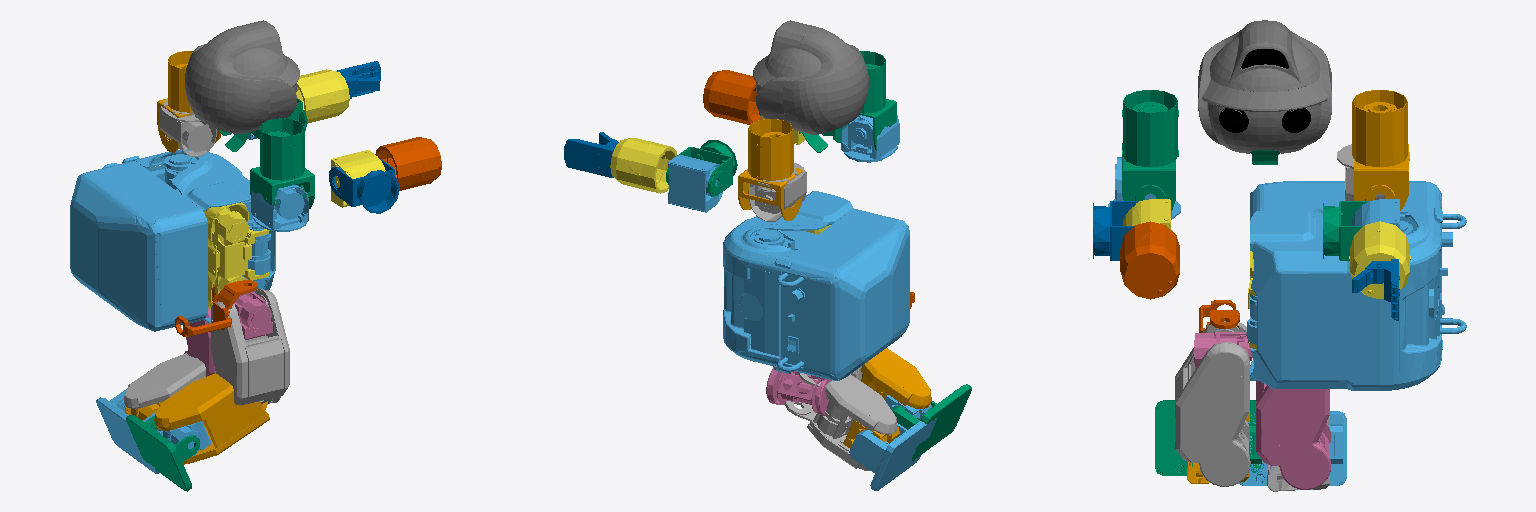
URDF robot description (hoap3):
<?xml version="1.0" ?>
<robot name="hoap3">
  <link name="base_link"/>
  <link name="CHEST">
    <visual>
      <origin rpy="0.0 -0.0 0.0" xyz="0.0 0.0 0.0"/>
      <geometry>
        <mesh filename="package://hoap3_description/meshes/BODY_LINK01.dae"/>
      </geometry>
    </visual>
    <intertial>
      <mass value="3.26"/>
      <origin xyz="-0.049489 0.000892912 -0.0408259"/>
    </intertial>
  </link>
  <link name="H_PAN">
    <visual>
      <origin rpy="0.0 -0.0 1.57079632679" xyz="0.0 0.0 0.08"/>
      <geometry>
        <mesh filename="package://hoap3_description/meshes/HEAD_LINK01.dae"/>
      </geometry>
    </visual>
    <intertial>
      <mass value="7.10e-02"/>
      <origin xyz="0.00539731 -0.00158067 0.0564034"/>
    </intertial>
  </link>
  <link name="H_TILT">
    <intertial>
      <mass value="0"/>
      <origin xyz="0.0 0.0 0.0"/>
    </intertial>
  </link>
  <link name="H_ROLL">
    <visual>
      <origin rpy="0.0 -0.0 0.0" xyz="0.0 0.0 0.0"/>
      <geometry>
        <mesh filename="package://hoap3_description/meshes/HEAD_LINK02.dae"/>
      </geometry>
    </visual>
    <intertial>
      <mass value="4.12e-01"/>
      <origin xyz="-0.00103952 -0.00517985 1.82267e-05"/>
    </intertial>
  </link>
  <link name="HEAD"/>
  <link name="EYE"/>
  <link name="REYE"/>
  <link name="LEYE"/>
  <link name="R_SFE">
    <visual>
      <origin rpy="0.0 -0.0 0.0" xyz="0.0 0.0 0.0"/>
      <geometry>
        <mesh filename="package://hoap3_description/meshes/RARM_LINK01.dae"/>
      </geometry>
    </visual>
    <intertial>
      <mass value="2.10e-01"/>
      <origin xyz="8.28367e-05 0.00666808 0.00634824"/>
    </intertial>
  </link>
  <link name="R_SAA">
    <visual>
      <origin rpy="0.0 -0.0 0.0" xyz="0.0 0.0 0.0"/>
      <geometry>
        <mesh filename="package://hoap3_description/meshes/RARM_LINK02.dae"/>
      </geometry>
    </visual>
    <intertial>
      <mass value="2.34e-01"/>
      <origin xyz="-0.00065756 -0.0463848 -0.00377395"/>
    </intertial>
  </link>
  <link name="R_SHR">
    <visual>
      <origin rpy="0.0 -0.0 0.0" xyz="0.0 0.0 0.0"/>
      <geometry>
        <mesh filename="package://hoap3_description/meshes/RARM_LINK03.dae"/>
      </geometry>
    </visual>
    <intertial>
      <mass value="1.965e-01"/>
      <origin xyz="-0.00272189 -0.00160245 -0.00220452"/>
    </intertial>
  </link>
  <link name="R_EB">
    <visual>
      <origin rpy="0.0 -0.0 0.0" xyz="0.0 0.0 0.0"/>
      <geometry>
        <mesh filename="package://hoap3_description/meshes/RARM_LINK04.dae"/>
      </geometry>
    </visual>
    <intertial>
      <mass value="2.16e-01"/>
      <origin xyz="0.00100237 0.0664225 -0.000615512"/>
    </intertial>
  </link>
  <link name="R_WR">
    <visual>
      <origin rpy="-1.57079632679 -0.0 0.0" xyz="0.0 0.0 0.0"/>
      <geometry>
        <mesh filename="package://hoap3_description/meshes/RARM_LINK05.dae"/>
      </geometry>
    </visual>
  </link>
  <link name="R_HAND">
    <visual>
      <origin rpy="-1.57079632679 -0.0 0.0" xyz="0.0 0.0 0.0"/>
      <geometry>
        <mesh filename="package://hoap3_description/meshes/RHAND.dae"/>
      </geometry>
    </visual>
  </link>
  <link name="L_SFE">
    <visual>
      <origin rpy="0.0 -0.0 0.0" xyz="0.0 0.0 0.0"/>
      <geometry>
        <mesh filename="package://hoap3_description/meshes/LARM_LINK01.dae"/>
      </geometry>
    </visual>
    <intertial>
      <mass value="2.10e-01"/>
      <origin xyz="-3.64197e-05 0.00664174 -0.00634825"/>
    </intertial>
  </link>
  <link name="L_SAA">
    <visual>
      <origin rpy="0.0 -0.0 0.0" xyz="0.0 0.0 0.0"/>
      <geometry>
        <mesh filename="package://hoap3_description/meshes/LARM_LINK02.dae"/>
      </geometry>
    </visual>
    <intertial>
      <mass value="2.34e-01"/>
      <origin xyz="0.000747218 -0.0463619 -0.00377403"/>
    </intertial>
  </link>
  <link name="L_SHR">
    <visual>
      <origin rpy="0.0 -0.0 0.0" xyz="0.0 0.0 0.0"/>
      <geometry>
        <mesh filename="package://hoap3_description/meshes/LARM_LINK03.dae"/>
      </geometry>
    </visual>
    <intertial>
      <mass value="1.965e-01"/>
      <origin xyz="-0.00270991 0.00160227 -0.00209019"/>
    </intertial>
  </link>
  <link name="L_EB">
    <visual>
      <origin rpy="0.0 -0.0 0.0" xyz="0.0 0.0 0.0"/>
      <geometry>
        <mesh filename="package://hoap3_description/meshes/LARM_LINK04.dae"/>
      </geometry>
    </visual>
    <intertial>
      <mass value="2.16e-01"/>
      <origin xyz="0.000962091 0.0664766 0.000558629"/>
    </intertial>
  </link>
  <link name="L_WR">
    <visual>
      <origin rpy="1.57079632679 -0.0 0.0" xyz="0.0 0.0 0.0"/>
      <geometry>
        <mesh filename="package://hoap3_description/meshes/LARM_LINK05.dae"/>
      </geometry>
    </visual>
  </link>
   <link name="L_HAND">
    <visual>
      <origin rpy="1.57079632679 -0.0 0.0" xyz="0.0 0.0 0.0"/>
      <geometry>
        <mesh filename="package://hoap3_description/meshes/LHAND.dae"/>
      </geometry>
    </visual>
  </link>
  <link name="R_LR">
    <visual>
      <origin rpy="0.0 -0.0 0.0" xyz="0.0 0.0 0.0"/>
      <geometry>
        <mesh filename="package://hoap3_description/meshes/RLEG_LINK01.dae"/>
      </geometry>
    </visual>
    <intertial>
      <mass value="5.87e-02"/>
      <origin xyz="-0.003015 -0.0022399 0.0335846"/>
    </intertial>
  </link>
  <link name="R_LAA">
    <visual>
      <origin rpy="0.0 -0.0 0.0" xyz="0.0 0.0 0.0"/>
      <geometry>
        <mesh filename="package://hoap3_description/meshes/RLEG_LINK02.dae"/>
      </geometry>
    </visual>
    <intertial>
      <mass value="2.10e-01"/>
      <origin xyz="-0.00272697 0.00113482 0.0023778"/>
    </intertial>
  </link>
  <link name="R_LFE">
    <visual>
      <origin rpy="0.0 -0.0 0.0" xyz="0.0 0.0 0.0"/>
      <geometry>
        <mesh filename="package://hoap3_description/meshes/RLEG_LINK03.dae"/>
      </geometry>
    </visual>
    <intertial>
      <mass value="5.19e-01"/>
      <origin xyz="-0.0698208 0.00616508 -0.00326392"/>
    </intertial>
  </link>
  <link name="R_KN">
    <visual>
      <origin rpy="0.0 -0.0 0.0" xyz="0.0 0.0 0.0"/>
      <geometry>
        <mesh filename="package://hoap3_description/meshes/RLEG_LINK04.dae"/>
      </geometry>
    </visual>
    <intertial>
      <mass value="3.28e-01"/>
      <origin xyz="-0.0508521 0.00536785 -0.0046975"/>
    </intertial>
  </link>
  <link name="R_AFE">
    <visual>
      <origin rpy="0.0 -0.0 0.0" xyz="0.0 0.0 0.0"/>
      <geometry>
        <mesh filename="package://hoap3_description/meshes/RLEG_LINK05.dae"/>
      </geometry>
    </visual>
    <intertial>
      <mass value="1.95e-01"/>
      <origin xyz="0.00293669 0.00366853 -0.00133746"/>
    </intertial>
  </link>
  <link name="R_AAA">
    <visual>
      <origin rpy="0.0 -0.0 0.0" xyz="0.0 0.0 0.0"/>
      <geometry>
        <mesh filename="package://hoap3_description/meshes/RLEG_LINK06.dae"/>
      </geometry>
    </visual>
    <intertial>
      <mass value="1.54e-01"/>
      <origin xyz="-0.0292236 0.00324167 0.00827642"/>
    </intertial>
  </link>
  <link name="R_FOOT"/>
  <link name="L_LR">
    <visual>
      <origin rpy="0.0 -0.0 0.0" xyz="0.0 0.0 0.0"/>
      <geometry>
        <mesh filename="package://hoap3_description/meshes/LLEG_LINK01.dae"/>
      </geometry>
    </visual>
    <intertial>
      <mass value="5.87e-02"/>
      <origin xyz="0.00300449 -0.00225088 0.0335846"/>
    </intertial>
  </link>
  <link name="L_LAA">
    <visual>
      <origin rpy="0.0 -0.0 0.0" xyz="0.0 0.0 0.0"/>
      <geometry>
        <mesh filename="package://hoap3_description/meshes/LLEG_LINK02.dae"/>
      </geometry>
    </visual>
    <intertial>
      <mass value="2.10e-01"/>
      <origin xyz="-0.00271179 -0.00124723 0.00238665"/>
    </intertial>
  </link>
  <link name="L_LFE">
    <visual>
      <origin rpy="0.0 -0.0 0.0" xyz="0.0 0.0 0.0"/>
      <geometry>
        <mesh filename="package://hoap3_description/meshes/LLEG_LINK03.dae"/>
      </geometry>
    </visual>
    <intertial>
      <mass value="5.19e-01"/>
      <origin xyz="-0.0699224 0.00627642 0.00331502"/>
    </intertial>
  </link>
  <link name="L_KN">
    <visual>
      <origin rpy="0.0 -0.0 0.0" xyz="0.0 0.0 0.0"/>
      <geometry>
        <mesh filename="package://hoap3_description/meshes/LLEG_LINK04.dae"/>
      </geometry>
    </visual>
    <intertial>
      <mass value="3.28e-01"/>
      <origin xyz="-0.0508386 0.00537031 0.00487773"/>
    </intertial>
  </link>
  <link name="L_AFE">
    <visual>
      <origin rpy="0.0 -0.0 0.0" xyz="0.0 0.0 0.0"/>
      <geometry>
        <mesh filename="package://hoap3_description/meshes/LLEG_LINK05.dae"/>
      </geometry>
    </visual>
    <intertial>
      <mass value="1.95e-01"/>
      <origin xyz="0.00292057 0.00369219 0.00119731"/>
    </intertial>
  </link>
  <link name="L_AAA">
    <visual>
      <origin rpy="0.0 -0.0 0.0" xyz="0.0 0.0 0.0"/>
      <geometry>
        <mesh filename="package://hoap3_description/meshes/LLEG_LINK06.dae"/>
      </geometry>
    </visual>
    <intertial>
      <mass value="1.54e-01"/>
      <origin xyz="-0.0292236 -0.0033462 0.00827642"/>
    </intertial>
  </link>
  <link name="L_FOOT"/>
  <link name="WAIST">
    <visual>
      <origin rpy="0.0 -0.0 0.0" xyz="0.0 0.0 0.0"/>
      <geometry>
        <mesh filename="package://hoap3_description/meshes/BODY_LINK02.dae"/>
      </geometry>
    </visual>
    <intertial>
      <mass value="4.17e-01"/>
      <origin xyz="-0.0322707 0.0111375 -0.000329172"/>
    </intertial>
  </link>

  <joint name="base_link_WAIST_joint" type="fixed">
    <parent link="base_link"/>
    <child link="WAIST"/>
    <origin rpy="1.57079632679 -0.0 0.0" xyz="0.0 0.0 0.0"/>
  </joint>
  <joint name="WAIST_CHEST_joint" type="revolute">
    <parent link="WAIST"/>
    <child link="CHEST"/>
    <axis xyz="0 1 0"/>
    <limit effort="100" lower="0.0" upper="0.610865238198" velocity="100"/>
    <origin rpy="-1.57079632679 -0.0 0.0" xyz="-0.0 0.0 0.0"/>
  </joint>
  <joint name="CHEST_H_PAN_joint" type="revolute">
    <parent link="CHEST"/>
    <child link="H_PAN"/>
    <axis xyz="0 0 1"/>
    <limit effort="100" lower="-1.0471975512" upper="1.0471975512" velocity="100"/>
    <origin rpy="0.0 -0.0 0.0" xyz="-0.035 0.0 0.125"/>
  </joint>
  <joint name="H_PAN_H_TILT_joint" type="revolute">
    <parent link="H_PAN"/>
    <child link="H_TILT"/>
    <axis xyz="0 0 -1"/>
    <limit effort="100" lower="-0.785398163397" upper="0.261799387799" velocity="100"/>
    <origin rpy="-1.57079632679 -0.0 0.0" xyz="0.015 0.0 0.103"/>
  </joint>
  <joint name="H_TILT_H_ROLL_joint" type="revolute">
    <parent link="H_TILT"/>
    <child link="H_ROLL"/>
    <axis xyz="-1 0 0"/>
    <limit effort="100" lower="-0.261799387799" upper="0.261799387799" velocity="100"/>
    <origin rpy="0.0 -0.0 0.0" xyz="0.0 0.0 0.0"/>
  </joint>
  <joint name="H_ROLL_HEAD_joint" type="fixed">
    <parent link="H_ROLL"/>
    <child link="HEAD"/>
    <origin rpy="0.0 -0.0 0.0" xyz="0.0 -0.07 0.0"/>
  </joint>
  <joint name="H_ROLL_EYE_joint" type="fixed">
    <parent link="H_ROLL"/>
    <child link="EYE"/>
    <origin rpy="0.0 -0.0 0.0" xyz="0.06 0.004 0.0"/>
  </joint>
  <joint name="H_ROLL_REYE_joint" type="fixed">
    <parent link="H_ROLL"/>
    <child link="REYE"/>
    <origin rpy="0.0 -0.0 0.0" xyz="0.05 0.004 -0.03"/>
  </joint>
  <joint name="H_ROLL_LEYE_joint" type="fixed">
    <parent link="H_ROLL"/>
    <child link="LEYE"/>
    <origin rpy="0.0 -0.0 0.0" xyz="0.05 0.004 0.03"/>
  </joint>
  <joint name="CHEST_R_SFE_joint" type="revolute">
    <parent link="CHEST"/>
    <child link="R_SFE"/>
    <axis xyz="0 0 1"/>
    <limit effort="100" lower="-1.57079632679" upper="2.44346095279" velocity="100"/>
    <origin rpy="-1.57079632679 -0.0 0.0" xyz="-0.035 -0.111 0.125"/>
  </joint>
  <joint name="R_SFE_R_SAA_joint" type="revolute">
    <parent link="R_SFE"/>
    <child link="R_SAA"/>
    <axis xyz="0 0 1"/>
    <limit effort="100" lower="-1.57079632679" upper="0.0" velocity="100"/>
    <origin rpy="1.57079632679 -1.57079632679 0.0" xyz="0.0 0.0 0.0"/>
  </joint>
  <joint name="R_SAA_R_SHR_joint" type="revolute">
    <parent link="R_SAA"/>
    <child link="R_SHR"/>
    <axis xyz="0 0 1"/>
    <limit effort="100" lower="-1.57079632679" upper="1.57079632679" velocity="100"/>
    <origin rpy="1.57079632679 -1.57079632679 0.0" xyz="0.0 -0.111 0.0"/>
  </joint>
  <joint name="R_SHR_R_EB_joint" type="revolute">
    <parent link="R_SHR"/>
    <child link="R_EB"/>
    <axis xyz="0 0 1"/>
    <limit effort="100" lower="-2.00712863979" upper="0.0" velocity="100"/>
    <origin rpy="1.57079632679 -0.0 0.0" xyz="0.0 0.0 0.0"/>
  </joint>
  <joint name="R_EB_R_WR_joint" type="revolute">
    <parent link="R_EB"/>
    <child link="R_WR"/>
    <axis xyz="0 0 1"/>
    <limit effort="100" lower="-1.0471975512" upper="1.0471975512" velocity="100"/>
    <origin rpy="1.57079632679 -0.0 0.0" xyz="0.0 0.0478 0.0"/>
  </joint>
  <joint name="R_WR_R_HAND_joint" type="fixed">
    <parent link="R_WR"/>
    <child link="R_HAND"/>
    <origin rpy="0.0 0.0 0.0" xyz="0.0 0.0 -0.055"/>
  </joint>
  <joint name="CHEST_L_SFE_joint" type="revolute">
    <parent link="CHEST"/>
    <child link="L_SFE"/>
    <axis xyz="0 0 1"/>
    <limit effort="100" lower="-1.57079632679" upper="2.44346095279" velocity="100"/>
    <origin rpy="-1.57079632679 -0.0 0.0" xyz="-0.035 0.111 0.125"/>
  </joint>
  <joint name="L_SFE_L_SAA_joint" type="revolute">
    <parent link="L_SFE"/>
    <child link="L_SAA"/>
    <axis xyz="0 0 1"/>
    <limit effort="100" lower="0.0" upper="1.57079632679" velocity="100"/>
    <origin rpy="1.57079632679 -1.57079632679 0.0" xyz="0.0 0.0 0.0"/>
  </joint>
  <joint name="L_SAA_L_SHR_joint" type="revolute">
    <parent link="L_SAA"/>
    <child link="L_SHR"/>
    <axis xyz="0 0 1"/>
    <limit effort="100" lower="-1.58824961931" upper="1.58824961931" velocity="100"/>
    <origin rpy="1.57079632679 -1.57079632679 0.0" xyz="0.0 -0.111 0.0"/>
  </joint>
  <joint name="L_SHR_L_EB_joint" type="revolute">
    <parent link="L_SHR"/>
    <child link="L_EB"/>
    <axis xyz="0 0 1"/>
    <limit effort="100" lower="-2.00712863979" upper="0.0" velocity="100"/>
    <origin rpy="1.57079632679 -0.0 0.0" xyz="0.0 0.0 0.0"/>
  </joint>
  <joint name="L_EB_L_WR_joint" type="revolute">
    <parent link="L_EB"/>
    <child link="L_WR"/>
    <axis xyz="0 0 1"/>
    <limit effort="100" lower="-1.57079632679" upper="1.57079632679" velocity="100"/>
    <origin rpy="-1.57079632679 -0.0 0.0" xyz="0.0 0.0478 0.0"/>
  </joint>
  <joint name="L_WR_L_HAND_joint" type="fixed">
    <parent link="L_WR"/>
    <child link="L_HAND"/>
    <origin rpy="0.0 0.0 0.0" xyz="0.0 0.0 0.055"/>
  </joint>
  <joint name="WAIST_R_LR_joint" type="revolute">
    <parent link="WAIST"/>
    <child link="R_LR"/>
    <axis xyz="0 0 1"/>
    <limit effort="100" lower="-1.57079632679" upper="0.523598775598" velocity="100"/>
    <origin rpy="-1.57079632679 1.57079632679 0.0" xyz="-0.035 -0.055 0.039"/>
  </joint>
  <joint name="R_LR_R_LAA_joint" type="revolute">
    <parent link="R_LR"/>
    <child link="R_LAA"/>
    <axis xyz="0 0 1"/>
    <limit effort="100" lower="-0.523598775598" upper="0.349065850399" velocity="100"/>
    <origin rpy="1.57079632679 -1.57079632679 0.0" xyz="0.0 0.0 0.0"/>
  </joint>
  <joint name="R_LAA_R_LFE_joint" type="revolute">
    <parent link="R_LAA"/>
    <child link="R_LFE"/>
    <axis xyz="0 0 1"/>
    <limit effort="100" lower="-1.3962634016" upper="1.2217304764" velocity="100"/>
    <origin rpy="1.57079632679 -0.0 0.0" xyz="0.0 0.0 0.0"/>
  </joint>
  <joint name="R_LFE_R_KN_joint" type="revolute">
    <parent link="R_LFE"/>
    <child link="R_KN"/>
    <axis xyz="0 0 1"/>
    <limit effort="100" lower="0.0872664625997" upper="2.26892802759" velocity="100"/>
    <origin rpy="0.0 -0.0 0.0" xyz="-0.105 0.0 0.0"/>
  </joint>
  <joint name="R_KN_R_AFE_joint" type="revolute">
    <parent link="R_KN"/>
    <child link="R_AFE"/>
    <axis xyz="0 0 1"/>
    <limit effort="100" lower="-1.0471975512" upper="1.0471975512" velocity="100"/>
    <origin rpy="0.0 -0.0 0.0" xyz="-0.105 0.0 0.0"/>
  </joint>
  <joint name="R_AFE_R_AAA_joint" type="revolute">
    <parent link="R_AFE"/>
    <child link="R_AAA"/>
    <axis xyz="0 0 1"/>
    <limit effort="100" lower="-0.436332312999" upper="0.436332312999" velocity="100"/>
    <origin rpy="-1.57079632679 -0.0 0.0" xyz="0.0 0.0 0.0"/>
  </joint>
  <joint name="R_AAA_R_FOOT_joint" type="fixed">
    <parent link="R_AAA"/>
    <child link="R_FOOT"/>
    <origin rpy="0.0 -0.0 0.0" xyz="-0.04 0.005 0.014"/>
  </joint>
  <joint name="WAIST_L_LR_joint" type="revolute">
    <parent link="WAIST"/>
    <child link="L_LR"/>
    <axis xyz="0 0 1"/>
    <limit effort="100" lower="-0.523598775598" upper="1.57079632679" velocity="100"/>
    <origin rpy="-1.57079632679 1.57079632679 0.0" xyz="-0.035 -0.055 -0.039"/>
  </joint>
  <joint name="L_LR_L_LAA_joint" type="revolute">
    <parent link="L_LR"/>
    <child link="L_LAA"/>
    <axis xyz="0 0 1"/>
    <limit effort="100" lower="-0.349065850399" upper="0.523598775598" velocity="100"/>
    <origin rpy="1.57079632679 -1.57079632679 0.0" xyz="0.0 0.0 0.0"/>
  </joint>
  <joint name="L_LAA_L_LFE_joint" type="revolute">
    <parent link="L_LAA"/>
    <child link="L_LFE"/>
    <axis xyz="0 0 1"/>
    <limit effort="100" lower="-1.3962634016" upper="1.2217304764" velocity="100"/>
    <origin rpy="1.57079632679 -0.0 0.0" xyz="0.0 0.0 0.0"/>
  </joint>
  <joint name="L_LFE_L_KN_joint" type="revolute">
    <parent link="L_LFE"/>
    <child link="L_KN"/>
    <axis xyz="0 0 1"/>
    <limit effort="100" lower="0.0872664625997" upper="2.26892802759" velocity="100"/>
    <origin rpy="0.0 -0.0 0.0" xyz="-0.105 0.0 0.0"/>
  </joint>
  <joint name="L_KN_L_AFE_joint" type="revolute">
    <parent link="L_KN"/>
    <child link="L_AFE"/>
    <axis xyz="0 0 1"/>
    <limit effort="100" lower="-1.0471975512" upper="1.0471975512" velocity="100"/>
    <origin rpy="0.0 -0.0 0.0" xyz="-0.105 0.0 0.0"/>
  </joint>
  <joint name="L_AFE_L_AAA_joint" type="revolute">
    <parent link="L_AFE"/>
    <child link="L_AAA"/>
    <axis xyz="0 0 1"/>
    <limit effort="100" lower="-0.436332312999" upper="0.436332312999" velocity="100"/>
    <origin rpy="-1.57079632679 -0.0 0.0" xyz="0.0 0.0 0.0"/>
  </joint>
  <joint name="L_AAA_L_FOOT_joint" type="fixed">
    <parent link="L_AAA"/>
    <child link="L_FOOT"/>
    <origin rpy="0.0 -0.0 0.0" xyz="-0.04 -0.005 0.014"/>
  </joint>
</robot>

--- Facts derived from the render (not from the file) ---
Views: 3 orthographic renders of the robot side by side, from view 1: azimuth 30°, elevation 25°; view 2: azimuth 150°, elevation 25°; view 3: azimuth 270°, elevation 25°.
Model hoap3 with 36 links and 35 joints (26 revolute, 9 fixed), rooted at base_link, posed all joints at 0 but 2 set to mid-range because 0 is outside their limits (R_LFE_R_KN_joint = 1.18, L_LFE_L_KN_joint = 1.18).
Visible links, largest first — view 1: CHEST, H_ROLL, R_LFE, R_KN, R_SAA, WAIST, R_AAA, L_KN, R_WR, R_EB, L_WR, R_SFE (+9 smaller); view 2: CHEST, H_ROLL, L_KN, L_SAA, L_AAA, L_WR, R_KN, R_WR, L_SHR, R_SFE, R_AAA, R_SAA (+4 smaller); view 3: CHEST, H_ROLL, R_LFE, L_LFE, L_SAA, R_SAA, R_WR, L_WR, R_AAA, R_EB, L_EB, L_AAA (+7 smaller).
Boxes of the visible links, left/top/right/bottom form: CHEST: left=70, top=150, right=275, bottom=331; H_ROLL: left=185, top=20, right=299, bottom=133; R_LFE: left=211, top=289, right=289, bottom=405; R_KN: left=154, top=373, right=269, bottom=464; R_SAA: left=250, top=118, right=314, bottom=208; WAIST: left=204, top=202, right=269, bottom=309; R_AAA: left=126, top=415, right=199, bottom=491; L_KN: left=124, top=353, right=205, bottom=421; R_WR: left=375, top=137, right=441, bottom=190; R_EB: left=329, top=158, right=399, bottom=213; L_WR: left=296, top=69, right=349, bottom=123; R_SFE: left=251, top=185, right=308, bottom=231; CHEST: left=723, top=191, right=909, bottom=380; H_ROLL: left=753, top=20, right=868, bottom=134; L_KN: left=785, top=373, right=897, bottom=470; L_SAA: left=738, top=119, right=802, bottom=220; L_AAA: left=849, top=418, right=936, bottom=490; L_WR: left=610, top=138, right=676, bottom=193; R_KN: left=861, top=348, right=931, bottom=408; R_WR: left=703, top=70, right=760, bottom=124; L_SHR: left=668, top=155, right=722, bottom=212; R_SFE: left=841, top=115, right=899, bottom=162; R_AAA: left=892, top=384, right=971, bottom=460; R_SAA: left=832, top=51, right=896, bottom=150; CHEST: left=1247, top=181, right=1466, bottom=390; H_ROLL: left=1198, top=20, right=1331, bottom=153; R_LFE: left=1175, top=321, right=1250, bottom=486; L_LFE: left=1256, top=381, right=1330, bottom=489; L_SAA: left=1352, top=90, right=1408, bottom=210; R_SAA: left=1122, top=90, right=1178, bottom=210; R_WR: left=1120, top=221, right=1179, bottom=299; L_WR: left=1349, top=221, right=1410, bottom=298; R_AAA: left=1155, top=400, right=1263, bottom=475; R_EB: left=1093, top=201, right=1138, bottom=260; L_EB: left=1323, top=201, right=1368, bottom=260; L_AAA: left=1238, top=411, right=1346, bottom=485.
Bounding box of the posed robot: 0.4317 × 0.3615 × 0.5514 m (x, y, z).
Meshes: 28 distinct files referenced, 27 mesh visuals loaded (27 Collada DAE); not drawn: 1 (file found but could not be loaded).